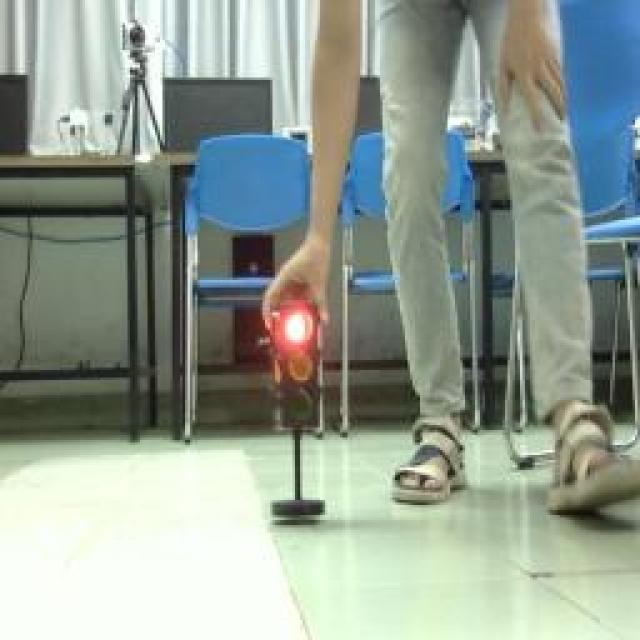-: (283, 310, 318, 347)
